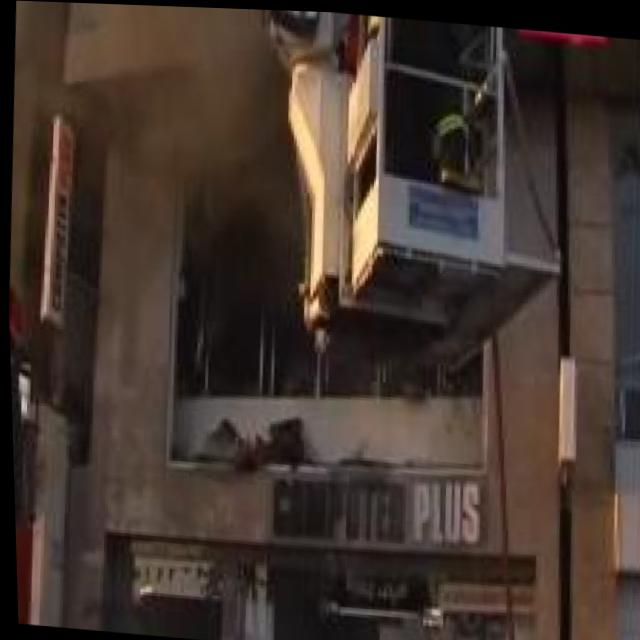fire: (6, 255, 168, 490)
